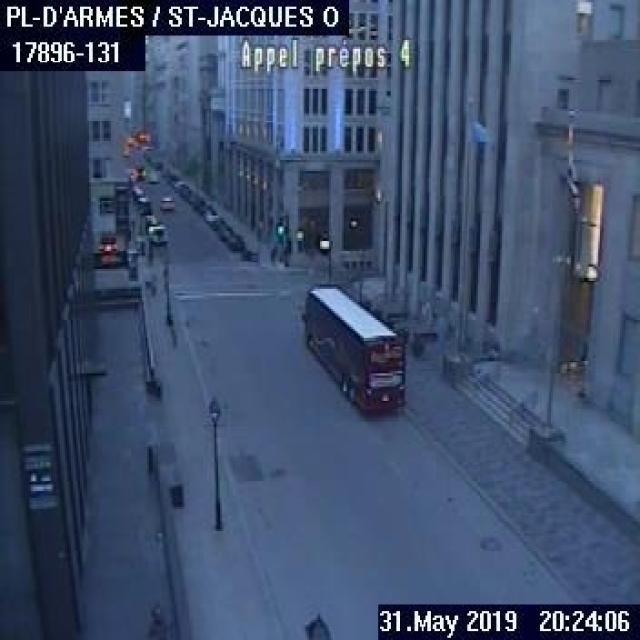bus: (302, 285, 404, 411)
vehicle: (146, 221, 166, 244), (225, 233, 242, 250), (217, 222, 231, 238), (158, 194, 172, 210), (202, 208, 216, 221), (208, 215, 222, 228)
